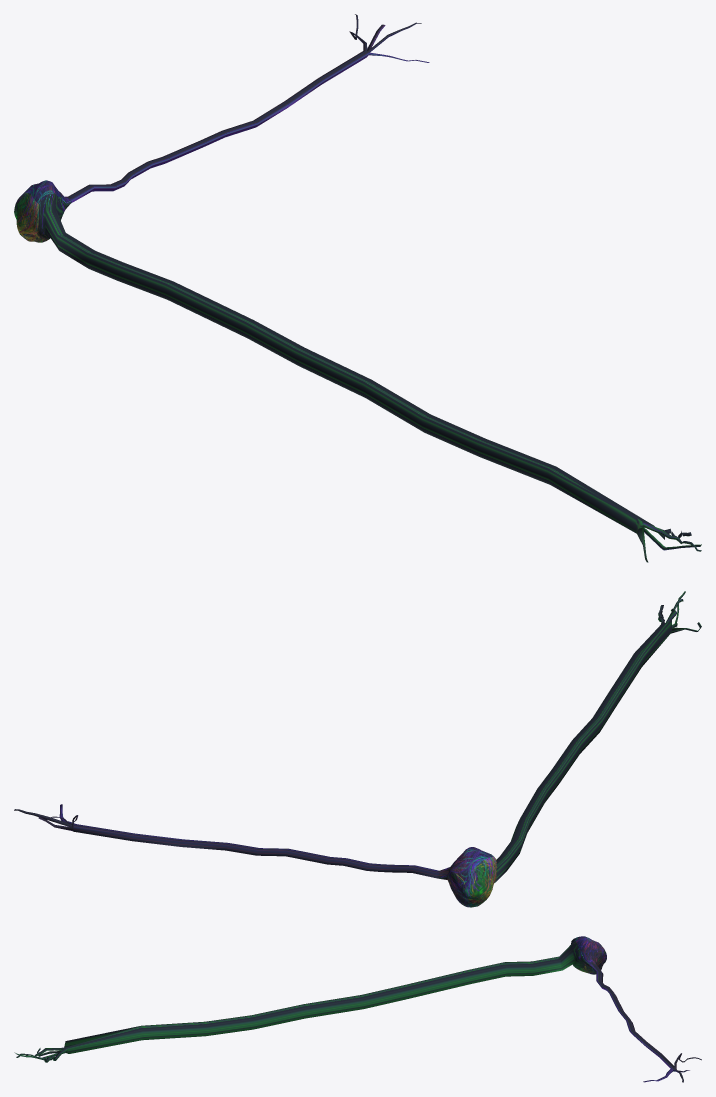
The model's file is lastneuron.fbx.
The picture shows the model from 3 angles, top to bottom: view 1: azimuth 30°, elevation 25°; view 2: azimuth 150°, elevation 25°; view 3: azimuth 270°, elevation 25°; orthographic projection. The views are drawn at different scales.
Parts seen in each view (by area): view 1: principal; view 2: principal; view 3: principal.
Part boxes in pixels (x1=…): principal: x1=14, y1=14, x2=701, y2=562; principal: x1=14, y1=591, x2=701, y2=907; principal: x1=14, y1=936, x2=701, y2=1082.
Size of the model in its own units: 44788 by 9855 by 88278.
